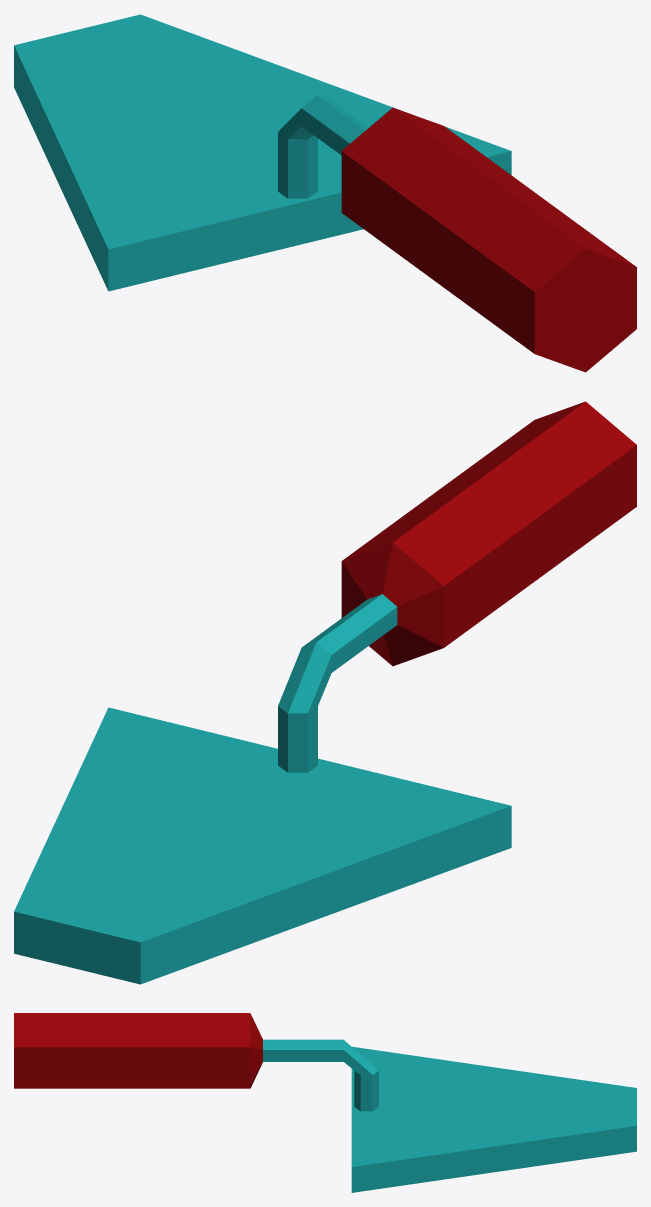
The model's file is redpawntrowel.0.5.6.obj.
3 views of the same model, one above another, from view 1: azimuth 30°, elevation 25°; view 2: azimuth 150°, elevation 25°; view 3: azimuth 270°, elevation 25° (orthographic). The views are drawn at different scales.
Parts seen in each view (by area): view 1: Cube.001_Cube.003; view 2: Cube.001_Cube.003; view 3: Cube.001_Cube.003.
Boxes of the visible parts, x1=… form: Cube.001_Cube.003: x1=14, y1=14, x2=636, y2=372; Cube.001_Cube.003: x1=14, y1=401, x2=636, y2=984; Cube.001_Cube.003: x1=14, y1=1013, x2=636, y2=1192.
Size of the model in its own units: 0.3362 by 0.1557 by 0.7343.
